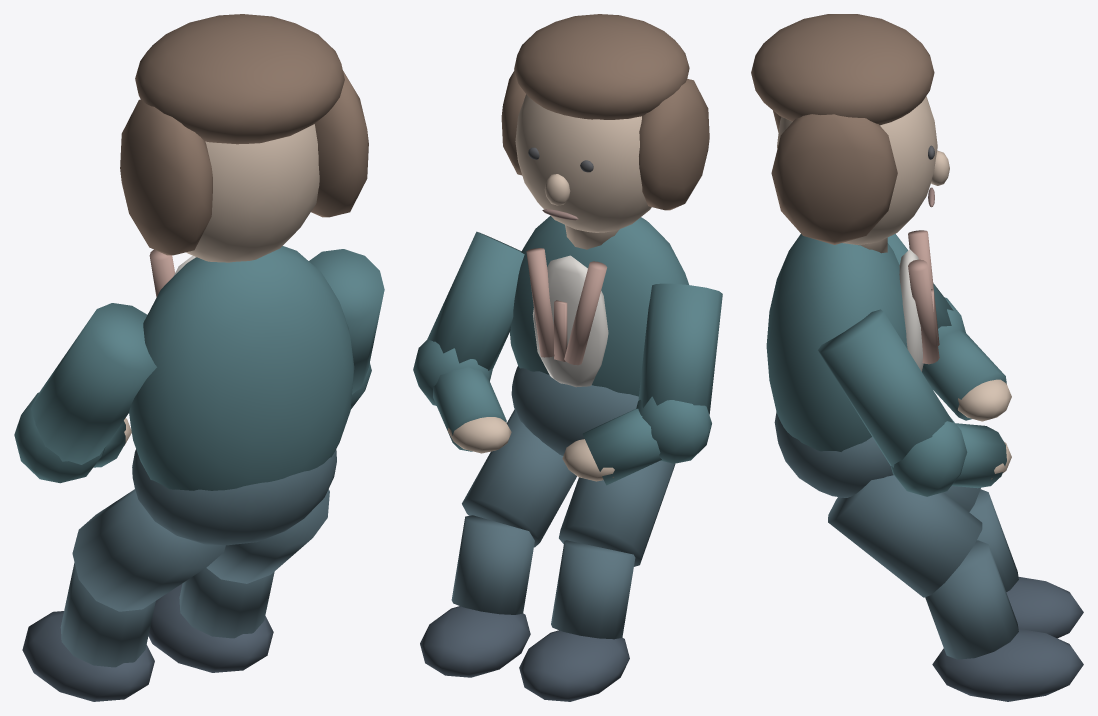
The model's file is f3b-agent-2.glb.
The picture shows the model from 3 angles, left to right: view 1: azimuth 30°, elevation 25°; view 2: azimuth 150°, elevation 25°; view 3: azimuth 270°, elevation 25°; orthographic projection. The views are drawn at different scales.
Parts seen in each view (by area): view 1: f3b-agent-2-01, f3b-agent-2-14, f3b-agent-2-07, f3b-agent-2-17, f3b-agent-2-15, f3b-agent-2-21, f3b-agent-2-00, f3b-agent-2-23, f3b-agent-2-16, f3b-agent-2-22, f3b-agent-2-30, f3b-agent-2-24 (+5 smaller); view 2: f3b-agent-2-14, f3b-agent-2-01, f3b-agent-2-07, f3b-agent-2-17, f3b-agent-2-24, f3b-agent-2-28, f3b-agent-2-15, f3b-agent-2-21, f3b-agent-2-22, f3b-agent-2-29, f3b-agent-2-00, f3b-agent-2-23 (+14 smaller); view 3: f3b-agent-2-01, f3b-agent-2-14, f3b-agent-2-16, f3b-agent-2-28, f3b-agent-2-24, f3b-agent-2-29, f3b-agent-2-30, f3b-agent-2-07, f3b-agent-2-00, f3b-agent-2-19, f3b-agent-2-25, f3b-agent-2-23 (+8 smaller).
Part boxes in pixels (left/top/right/bottom): f3b-agent-2-01: left=129, top=246, right=354, bottom=490; f3b-agent-2-14: left=135, top=14, right=344, bottom=144; f3b-agent-2-07: left=186, top=124, right=319, bottom=262; f3b-agent-2-17: left=31, top=303, right=156, bottom=464; f3b-agent-2-15: left=120, top=99, right=212, bottom=255; f3b-agent-2-21: left=72, top=489, right=225, bottom=611; f3b-agent-2-00: left=132, top=449, right=336, bottom=545; f3b-agent-2-23: left=22, top=611, right=154, bottom=701; f3b-agent-2-16: left=311, top=71, right=368, bottom=217; f3b-agent-2-22: left=60, top=562, right=155, bottom=667; f3b-agent-2-30: left=148, top=583, right=273, bottom=672; f3b-agent-2-24: left=309, top=249, right=384, bottom=394; f3b-agent-2-14: left=514, top=14, right=689, bottom=119; f3b-agent-2-01: left=510, top=216, right=688, bottom=396; f3b-agent-2-07: left=515, top=94, right=651, bottom=232; f3b-agent-2-17: left=638, top=283, right=722, bottom=414; f3b-agent-2-24: left=427, top=231, right=524, bottom=370; f3b-agent-2-28: left=462, top=409, right=576, bottom=547; f3b-agent-2-15: left=639, top=79, right=709, bottom=210; f3b-agent-2-21: left=559, top=460, right=675, bottom=566; f3b-agent-2-22: left=551, top=540, right=635, bottom=639; f3b-agent-2-29: left=451, top=515, right=534, bottom=614; f3b-agent-2-00: left=511, top=366, right=638, bottom=455; f3b-agent-2-23: left=519, top=630, right=629, bottom=701; f3b-agent-2-01: left=766, top=234, right=907, bottom=451; f3b-agent-2-14: left=751, top=14, right=934, bottom=125; f3b-agent-2-16: left=771, top=114, right=897, bottom=244; f3b-agent-2-28: left=828, top=475, right=982, bottom=597; f3b-agent-2-24: left=818, top=309, right=953, bottom=467; f3b-agent-2-29: left=925, top=540, right=1018, bottom=659; f3b-agent-2-30: left=932, top=629, right=1083, bottom=701; f3b-agent-2-07: left=777, top=96, right=937, bottom=244; f3b-agent-2-00: left=774, top=412, right=893, bottom=497; f3b-agent-2-19: left=922, top=330, right=1006, bottom=420; f3b-agent-2-25: left=891, top=417, right=967, bottom=496; f3b-agent-2-23: left=1006, top=577, right=1083, bottom=638.
Bounding box in the file's own units: 1.11 × 2.18 × 1.03.
